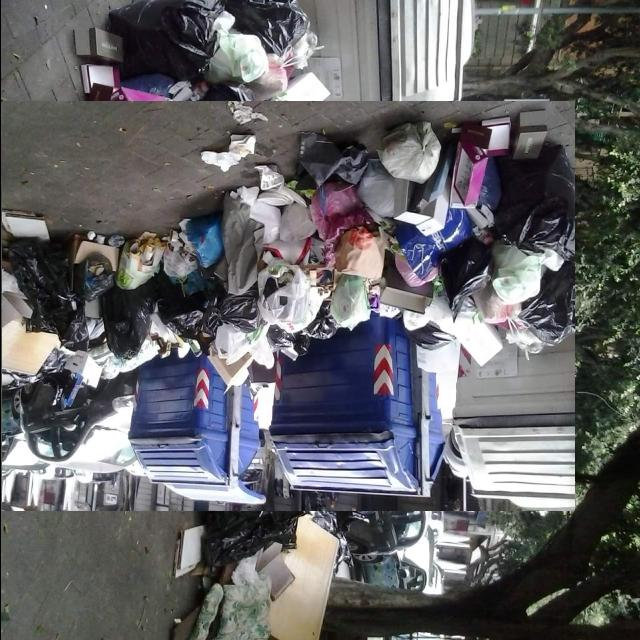garbage: (14, 51, 524, 560)
